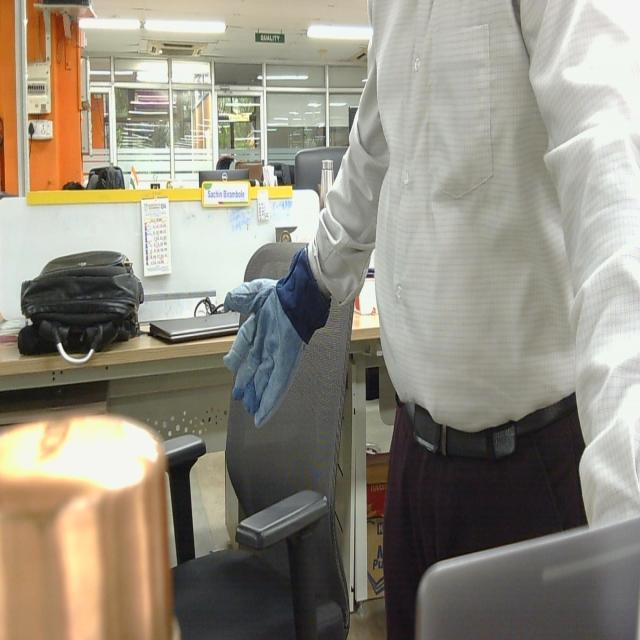Gloves-Detection: (216, 254, 329, 429)
